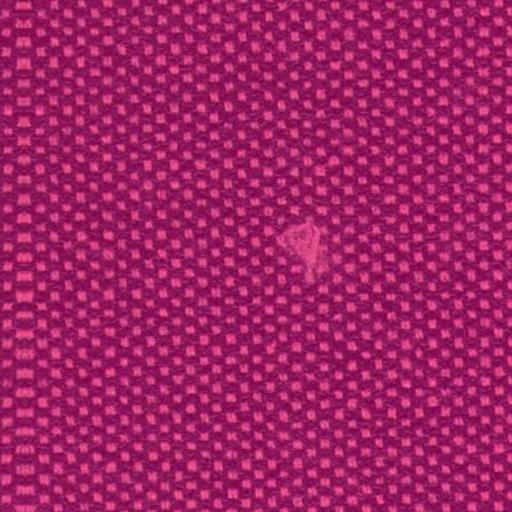knot: (273, 216, 332, 288)
